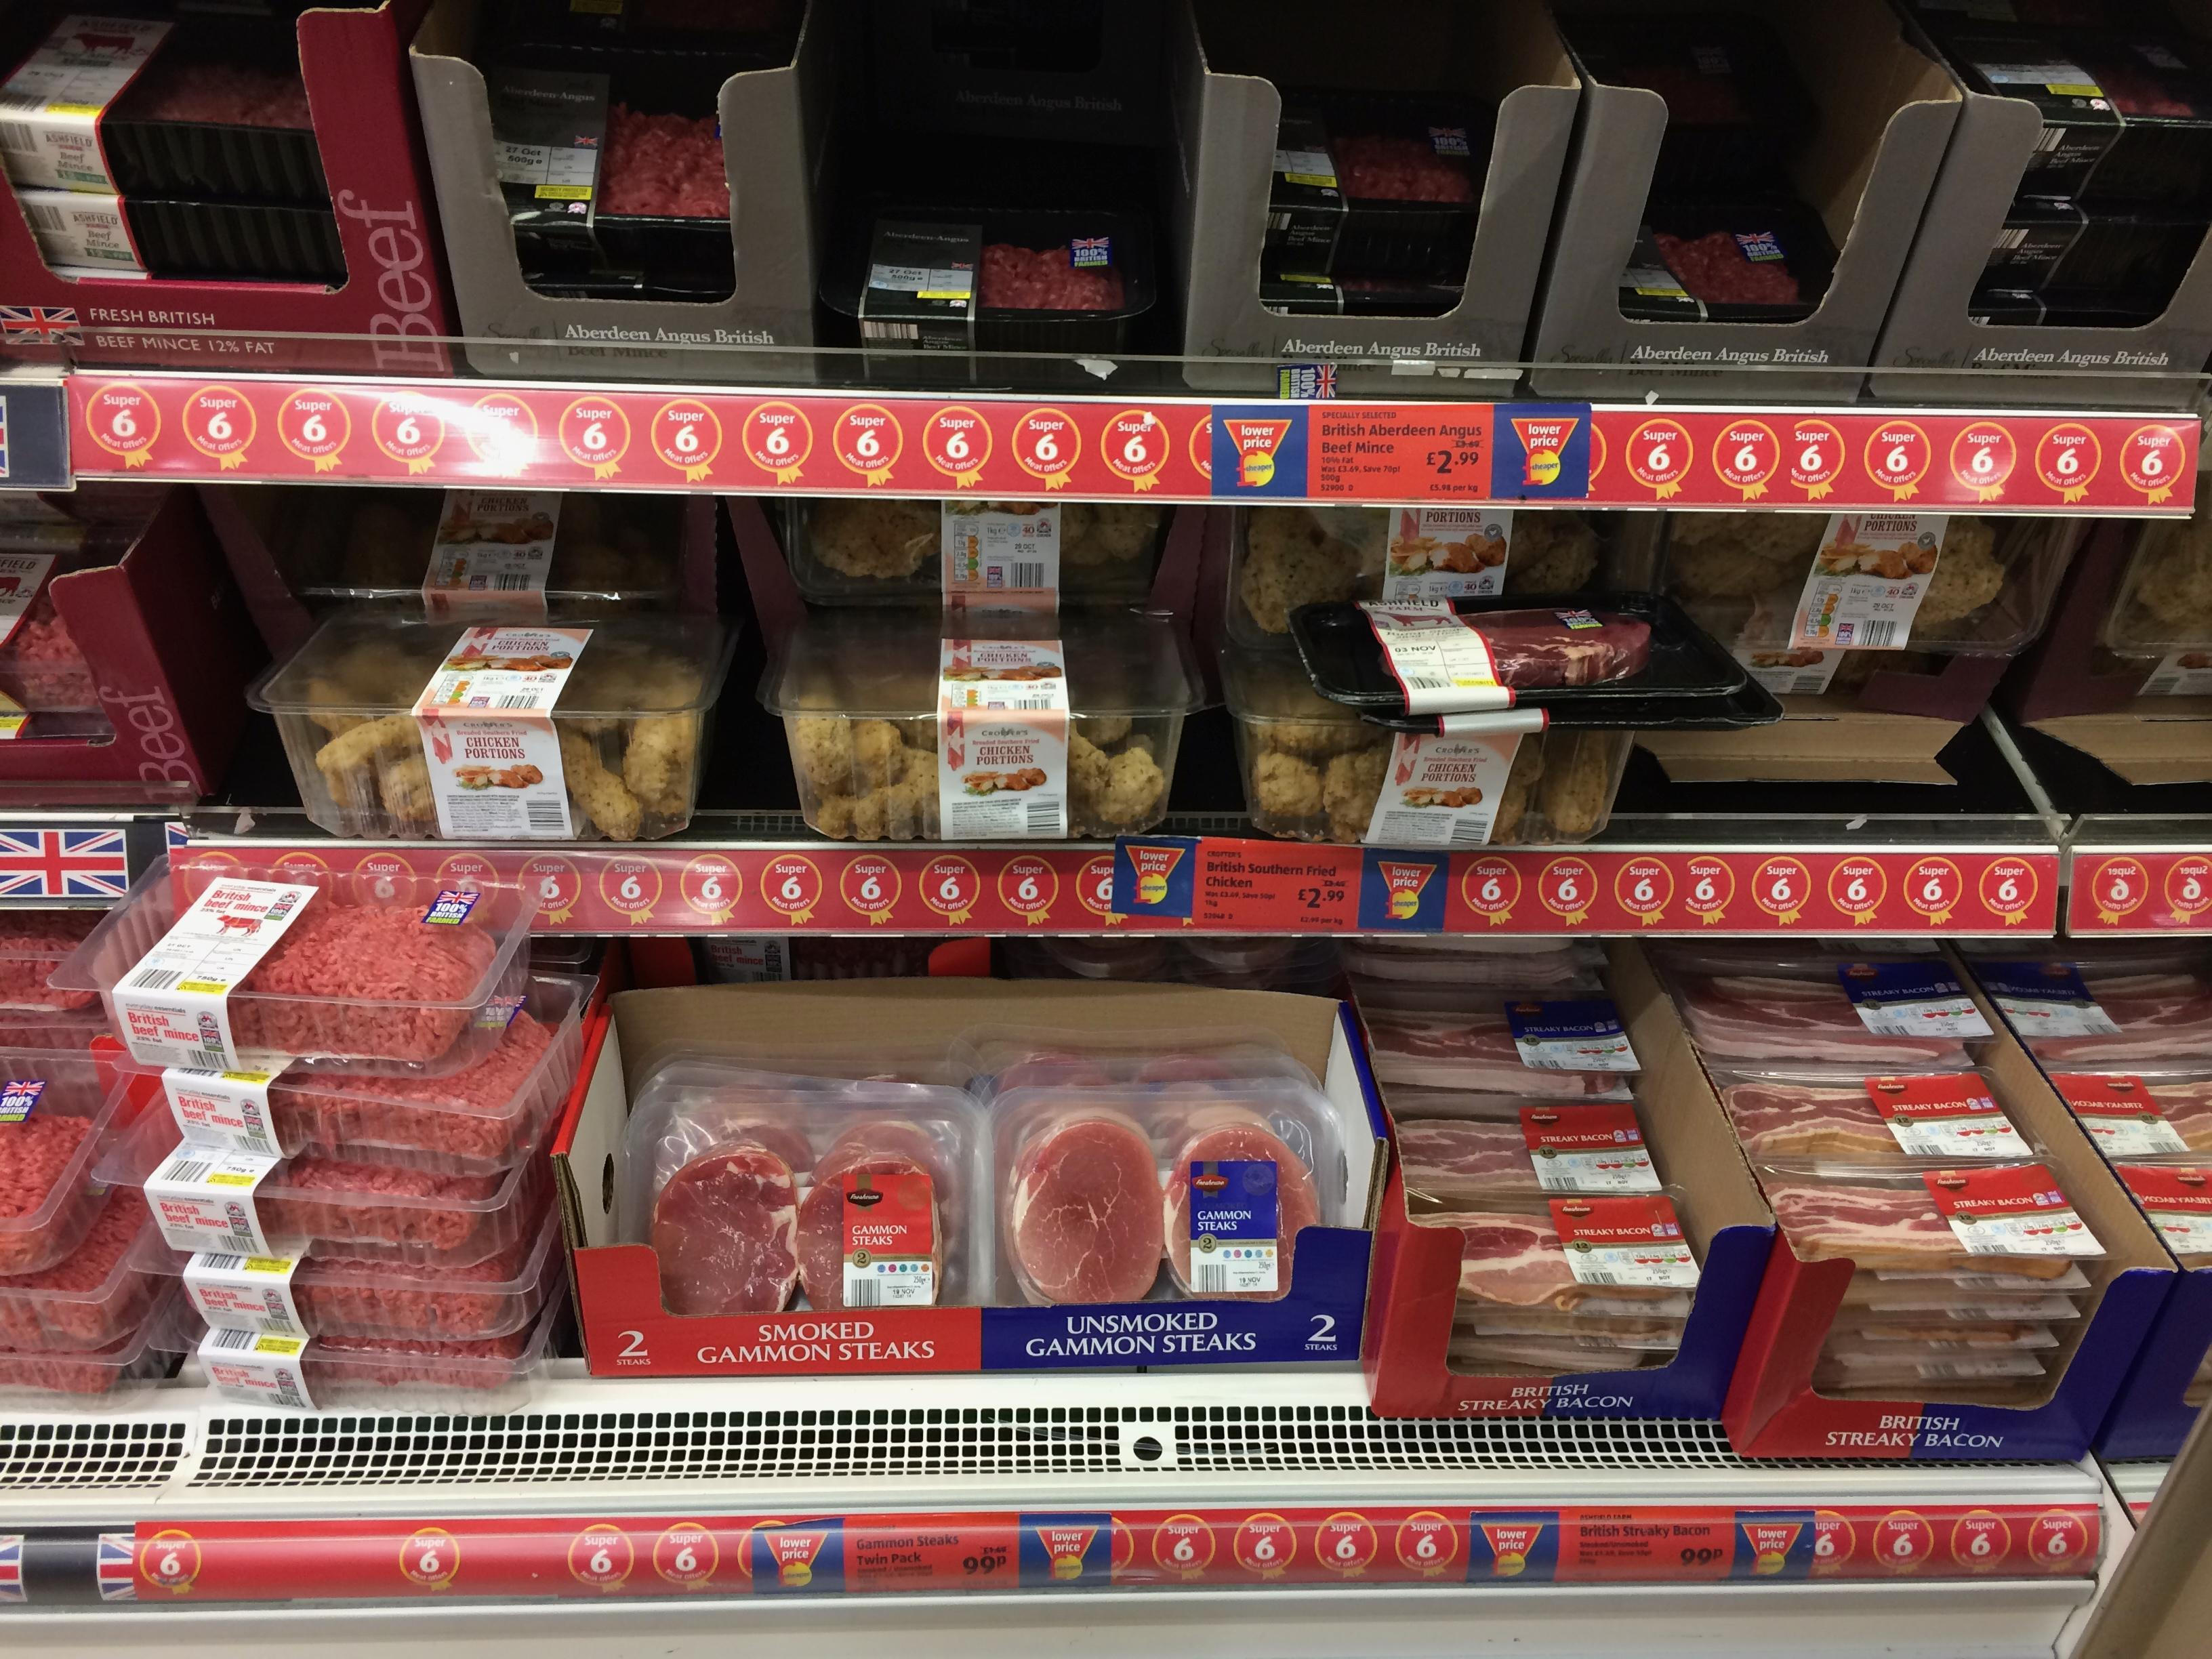beef: (230, 892, 496, 1061), (270, 1011, 561, 1162), (1761, 1171, 2071, 1277), (1005, 1108, 1163, 1304), (1163, 1108, 1320, 1300), (1670, 972, 1968, 1070), (291, 1227, 545, 1340), (1418, 1208, 1686, 1314), (0, 1190, 158, 1351), (254, 1155, 498, 1258), (651, 1143, 798, 1314), (1362, 1006, 1623, 1098), (812, 1117, 968, 1269), (798, 1150, 937, 1309), (1761, 1171, 1963, 1269), (2029, 971, 2212, 1066), (1420, 1209, 1588, 1309), (0, 1110, 98, 1274), (303, 1330, 531, 1399), (1341, 936, 1602, 995), (597, 103, 730, 218), (117, 52, 312, 129), (655, 1091, 813, 1183), (1468, 610, 1649, 688), (1721, 1080, 1898, 1155), (812, 1117, 951, 1204), (1844, 1272, 2080, 1323), (1397, 1119, 1538, 1202), (1655, 230, 1799, 305), (1456, 1304, 1684, 1349), (0, 910, 103, 1009), (0, 1108, 91, 1220), (1332, 134, 1475, 204), (977, 242, 1123, 310), (1447, 1330, 1670, 1373), (0, 1333, 136, 1394), (1815, 1352, 2045, 1387), (1831, 1317, 2057, 1351), (1872, 1267, 2090, 1293), (2144, 1077, 2212, 1152)
meat: (230, 894, 496, 1061), (270, 1011, 556, 1162), (1759, 1169, 2071, 1277), (291, 1216, 557, 1340), (1005, 1108, 1163, 1304), (1416, 1206, 1688, 1317), (1163, 1108, 1318, 1300), (1670, 971, 1968, 1068), (0, 1190, 158, 1351), (651, 1143, 798, 1314), (256, 1155, 498, 1256), (1364, 1006, 1625, 1098), (798, 1150, 935, 1309), (1761, 1171, 1961, 1269), (2027, 971, 2212, 1065), (1420, 1211, 1590, 1309), (303, 1328, 531, 1399), (653, 1089, 813, 1188), (0, 1108, 96, 1272), (1341, 936, 1602, 995), (597, 103, 730, 218), (115, 52, 312, 129), (1468, 610, 1649, 688), (1721, 1080, 1898, 1155), (2052, 1073, 2212, 1150), (1843, 1272, 2080, 1323), (0, 591, 99, 711), (1397, 1119, 1538, 1202), (813, 1119, 951, 1204), (1655, 230, 1801, 305), (1454, 1304, 1684, 1349), (0, 1107, 91, 1220), (977, 242, 1123, 310), (0, 911, 101, 1009), (1331, 134, 1475, 202), (1447, 1330, 1670, 1373), (1813, 1351, 2047, 1389), (0, 1333, 139, 1394), (1831, 1317, 2057, 1351)
steak: (1761, 1171, 2071, 1277), (1007, 1107, 1163, 1304), (1163, 1110, 1318, 1300), (1418, 1208, 1688, 1316), (1670, 972, 1968, 1070), (651, 1145, 798, 1314), (1362, 1006, 1627, 1098), (798, 1150, 941, 1309), (1470, 610, 1649, 688), (1721, 1080, 1898, 1157), (1399, 1119, 1536, 1202)
